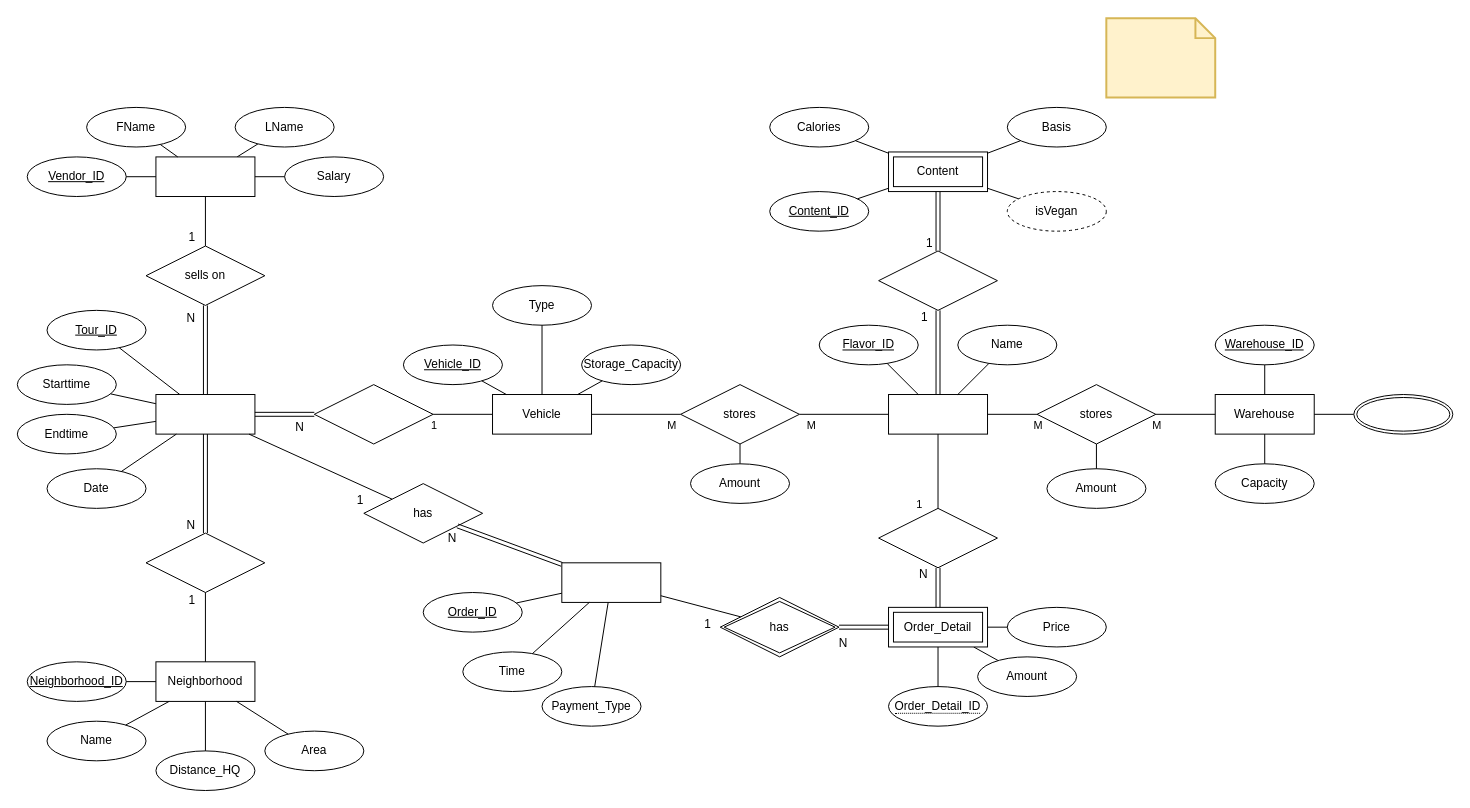
Some shapes in this 1470 by 808 pixel diagram are drawn without their labels. Each missing label, with the box of its shape:
Address: (1353, 394, 1453, 434)
Basis = Milk, Water, Hazelnutmilk: (1105, 17, 1216, 98)
contains: (878, 507, 997, 568)
drives in: (145, 532, 265, 593)
Flavor: (888, 394, 988, 434)
Icecream_Vendor: (155, 156, 255, 197)
is made with: (878, 250, 997, 310)
is used for: (313, 384, 433, 444)
Order: (561, 562, 661, 602)
Tour: (155, 394, 255, 434)
